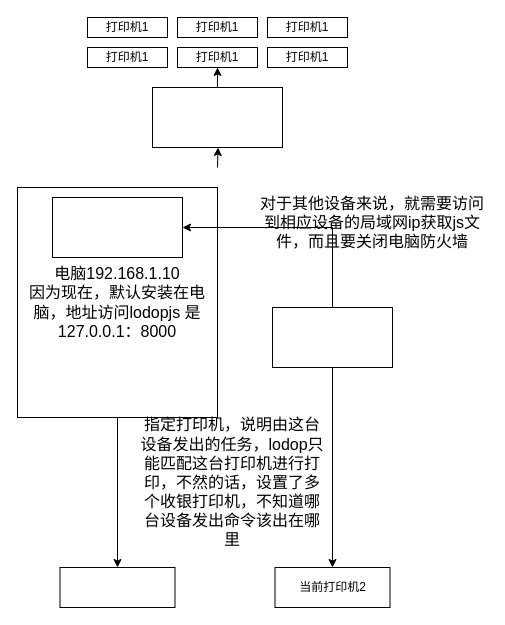
Some shapes in this 505 by 625 pixel diagram are drawn without their labels. Each missing label, with the centre of its shape:
"Clodop/lodop.js 只能安装在windows上" goes at point (117, 227).
"ipad 192.168.1.139" goes at point (332, 337).
"window打印队列" goes at point (217, 117).
"当前打印机1" goes at point (117, 587).
